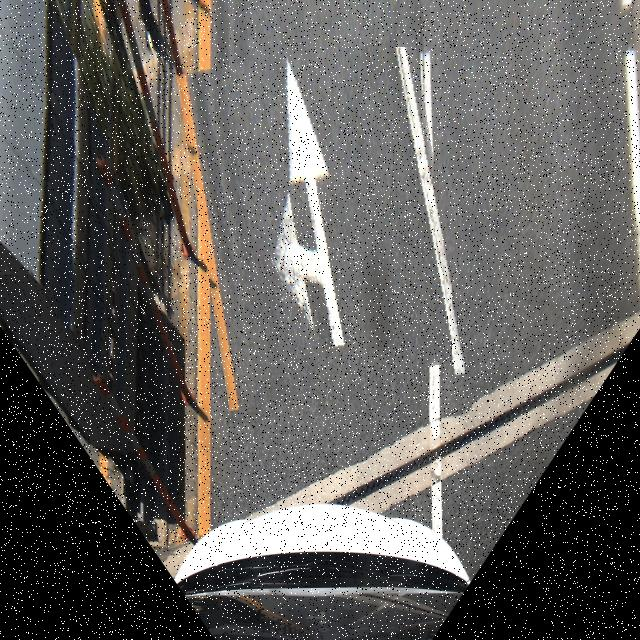forward_left: (189, 47, 452, 403)
